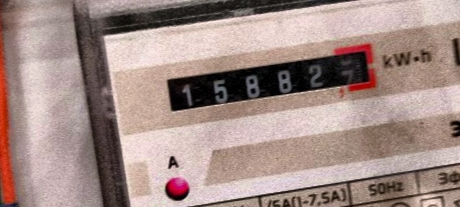1: (178, 79, 195, 110)
2: (304, 62, 325, 90)
5: (209, 76, 230, 108)
7: (338, 67, 353, 86)
8: (241, 72, 261, 102), (274, 67, 293, 97)
screen: (152, 35, 384, 126)
